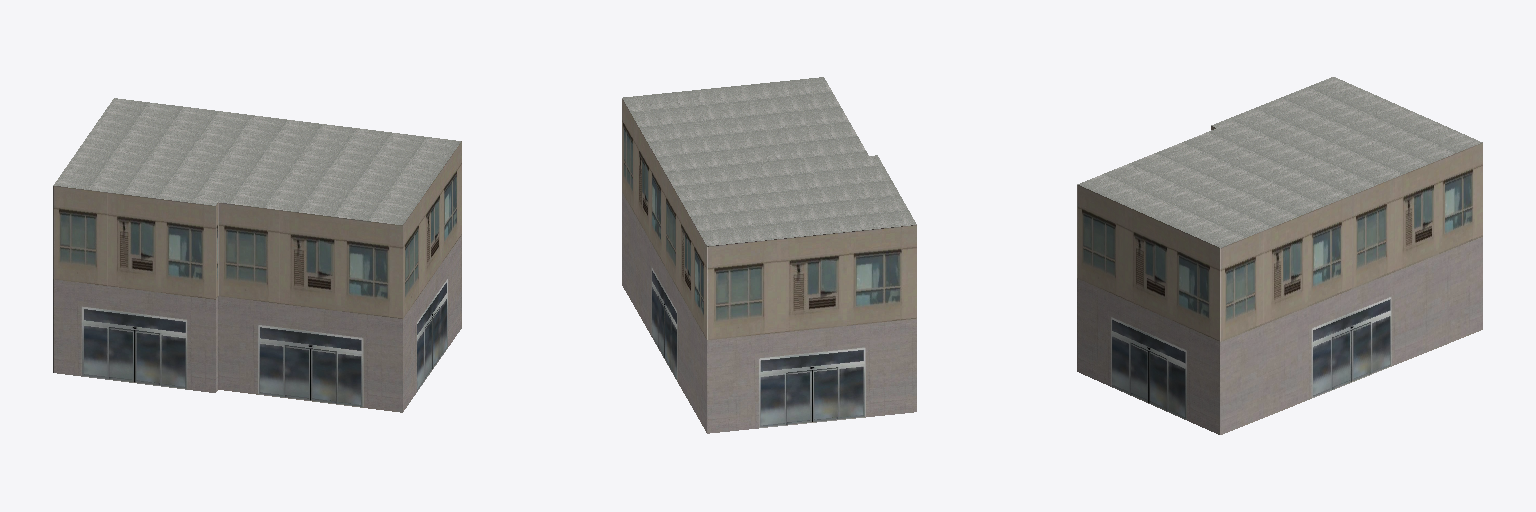
The picture shows the model from 3 angles: view 1: azimuth 30°, elevation 25°; view 2: azimuth 150°, elevation 25°; view 3: azimuth 270°, elevation 25°; orthographic projection.
Visible parts, largest first — view 1: BuildingMaster_[number redacted]_0, BuildingMaster_[number redacted]_1; view 2: BuildingMaster_[number redacted]_0, BuildingMaster_[number redacted]_1; view 3: BuildingMaster_[number redacted]_0, BuildingMaster_[number redacted]_1.
Part boxes in pixels (x1,y1,x2,y2): BuildingMaster_[number redacted]_0: (53,141,461,412); BuildingMaster_[number redacted]_1: (53,98,460,224); BuildingMaster_[number redacted]_0: (622,99,916,433); BuildingMaster_[number redacted]_1: (622,77,916,245); BuildingMaster_[number redacted]_0: (1077,126,1482,434); BuildingMaster_[number redacted]_1: (1077,77,1482,247).
Size of the model in its own units: 13.75 by 7 by 13.73.
Materials: 2 (2 with a texture image).